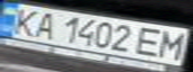0: (93, 19, 115, 51)
1: (54, 14, 81, 44)
2: (112, 21, 139, 54)
4: (75, 17, 100, 47)
A: (27, 10, 60, 39)
E: (133, 25, 169, 57)
K: (3, 6, 45, 36)
M: (154, 29, 190, 60)
